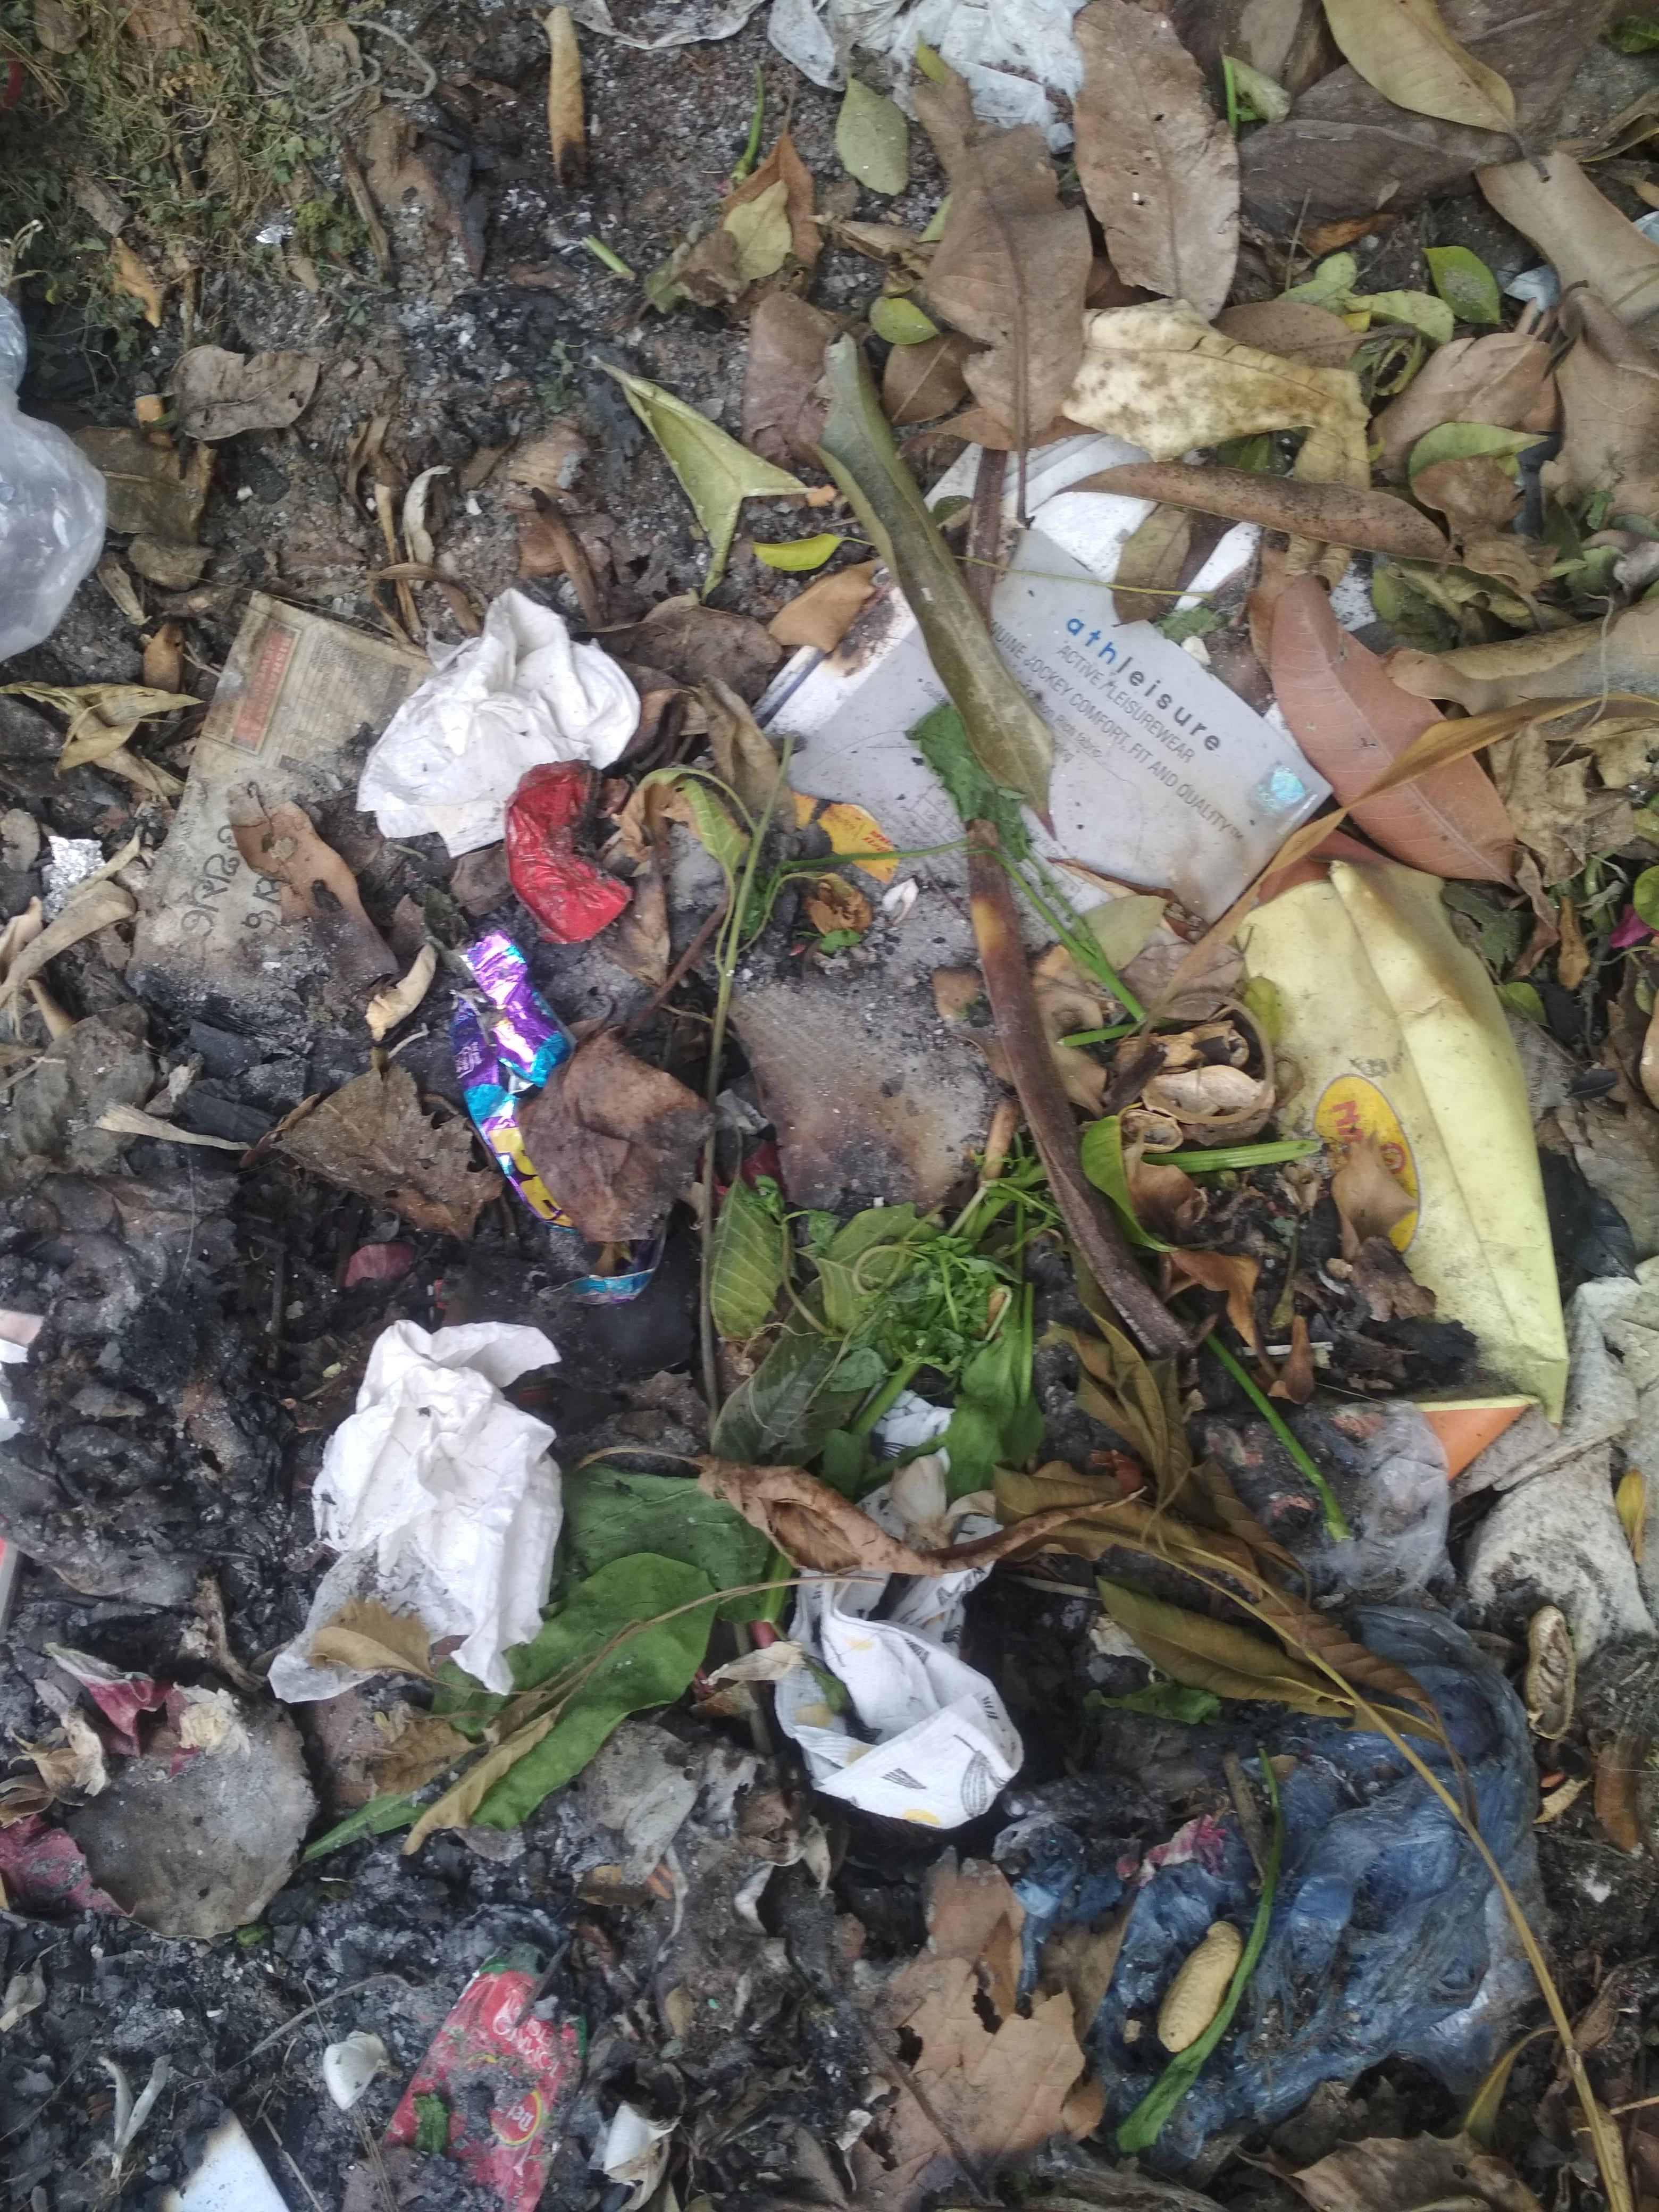trash: (0, 575, 1659, 2212)
